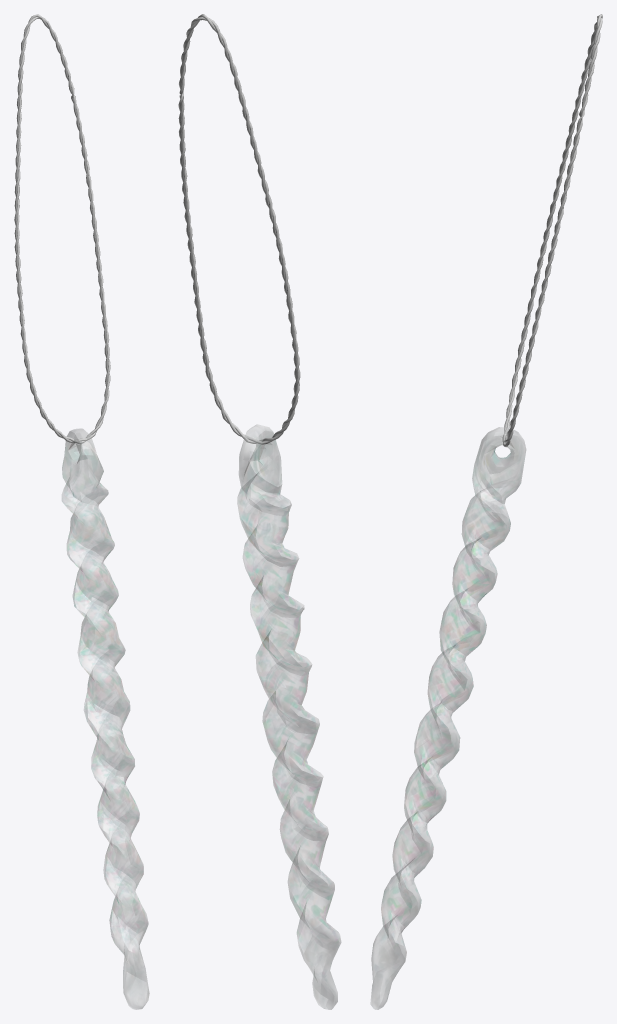
The model's file is Iridescent_Spiral.glb.
3 views of the same model, side by side, from view 1: azimuth 30°, elevation 25°; view 2: azimuth 150°, elevation 25°; view 3: azimuth 270°, elevation 25° (orthographic). The views are drawn at different scales.
Parts seen in each view (by area): view 1: Mesh1.0, GN Instance; view 2: Mesh1.0, GN Instance; view 3: Mesh1.0, GN Instance.
Boxes of the visible parts, x1=… form: Mesh1.0: x1=61, y1=428, x2=149, y2=1009; GN Instance: x1=14, y1=14, x2=110, y2=443; Mesh1.0: x1=237, y1=424, x2=341, y2=1009; GN Instance: x1=178, y1=14, x2=300, y2=444; Mesh1.0: x1=370, y1=427, x2=526, y2=1009; GN Instance: x1=502, y1=14, x2=602, y2=447.
Size of the model in its own units: 0.0212 by 0.2183 by 0.0462.
Materials: 2 (1 with a texture image).
